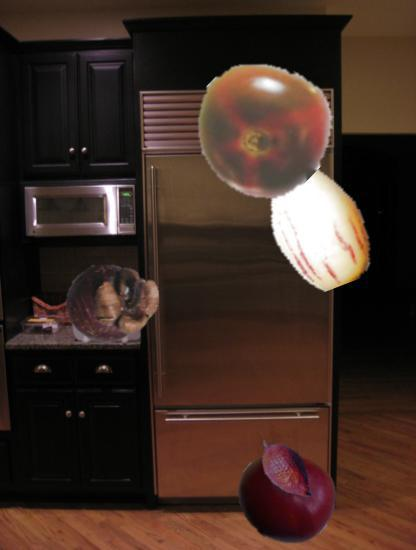Mango: (237, 447, 337, 547)
Mangostan: (65, 255, 162, 352)
Pepino: (250, 155, 385, 290)
Salak: (250, 433, 322, 505)
Tomato: (194, 58, 332, 196)
